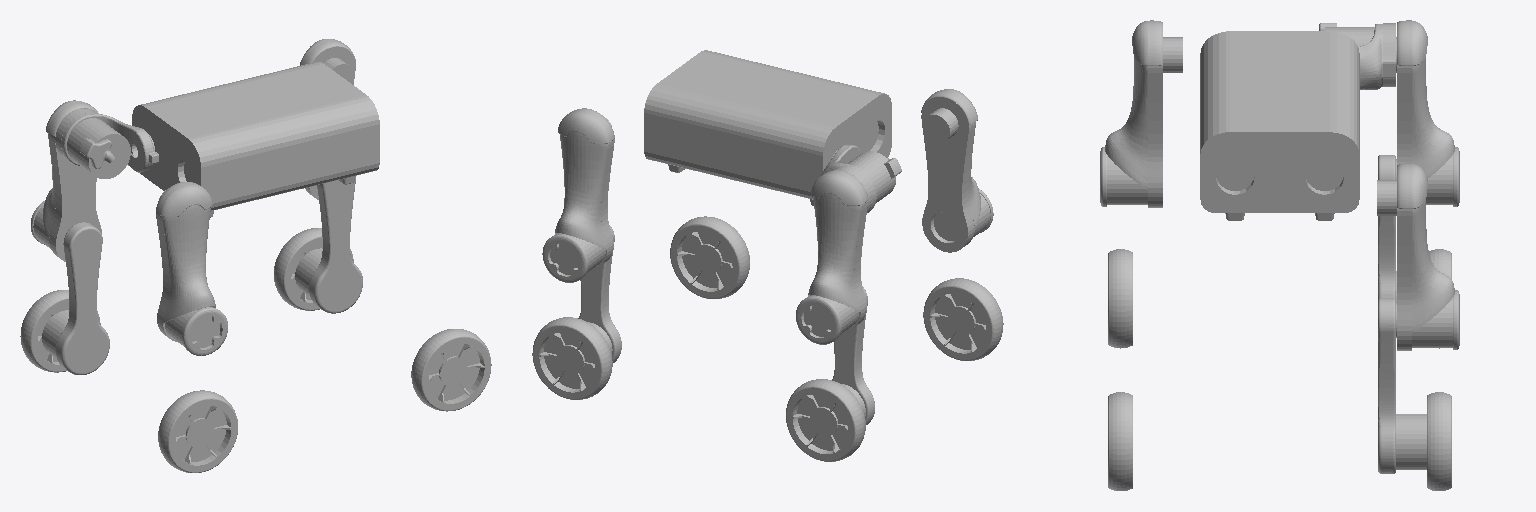
The robot description file, URDF, robot "Yun1W":
<?xml version="1.0" encoding="utf-8"?>
<!-- This URDF was automatically created by SolidWorks to URDF Exporter! Originally created by [author] ([email redacted]) 
     Commit Version: 1.6.0-1-g15f4949  Build Version: 1.6.7594.29634
     For more information, please see http://wiki.ros.org/sw_urdf_exporter -->
<robot
  name="Yun1W">
  <link
    name="base_link">
    <inertial>
      <origin
        xyz="0.00383944 0.00032322 0.00132292"
        rpy="0 0 0" />
      <mass
        value="2.87129405" />
      <inertia
        ixx="0.00758086"
        ixy="-5.884e-05"
        ixz="-4.28e-06"
        iyy="0.01707296"
        iyz="-1.288e-05"
        izz="0.02157473" />
    </inertial>
    <visual>
      <origin
        xyz="0 0 0"
        rpy="0 0 0" />
      <geometry>
        <mesh
          filename="../meshes/base_link.STL" />
      </geometry>
      <material
        name="">
        <color
          rgba="0.752941176470588 0.752941176470588 0.752941176470588 1" />
      </material>
    </visual>
    <collision>
      <origin
        xyz="0 0 0"
        rpy="0 0 0" />
      <geometry>
        <mesh
          filename="../meshes/base_link.STL" />
      </geometry>
    </collision>
  </link>
  <link
    name="fl_hip_Link">
    <inertial>
      <origin
        xyz="0.05181106 0.02890945 -0.00025930"
        rpy="0 0 0" />
      <mass
        value="0.40036239" />
      <inertia
        ixx="0.00027388"
        ixy="3.434e-05"
        ixz="-1.58e-06"
        iyy="0.00028655"
        iyz="-1.64e-06"
        izz="0.00034645" />
    </inertial>
    <visual>
      <origin
        xyz="0 0 0"
        rpy="0 0 0" />
      <geometry>
        <mesh
          filename="../meshes/fl_hip_Link.STL" />
      </geometry>
      <material
        name="">
        <color
          rgba="0.752941176470588 0.752941176470588 0.752941176470588 1" />
      </material>
    </visual>
    <collision>
      <origin
        xyz="0 0 0"
        rpy="0 0 0" />
      <geometry>
        <mesh
          filename="../meshes/fl_hip_Link.STL" />
      </geometry>
    </collision>
  </link>
  <joint
    name="fl_hip_Joint"
    type="revolute">
    <origin
      xyz="0.1125 0.045 0"
      rpy="0 0 0" />
    <parent
      link="base_link" />
    <child
      link="fl_hip_Link" />
    <axis
      xyz="1 0 0" />
    <limit
      lower="-0.6981"
      upper="0.6981"
      effort="14"
      velocity="17" />
  </joint>
  <link
    name="fl_thigh_Link">
    <inertial>
      <origin
        xyz="-0.00025469 0.04391819 -0.10445464"
        rpy="0 0 0" />
      <mass
        value="0.47156059" />
      <inertia
        ixx="0.00157037"
        ixy="-7.2e-07"
        ixz="3.68e-06"
        iyy="0.00153438"
        iyz="-0.00020301"
        izz="0.00030139" />
    </inertial>
    <visual>
      <origin
        xyz="0 0 0"
        rpy="0 0 0" />
      <geometry>
        <mesh
          filename="../meshes/fl_thigh_Link.STL" />
      </geometry>
      <material
        name="">
        <color
          rgba="0.75294 0.75294 0.75294 1" />
      </material>
    </visual>
    <collision>
      <origin
        xyz="0 0 0"
        rpy="0 0 0" />
      <geometry>
        <mesh
          filename="../meshes/fl_thigh_Link.STL" />
      </geometry>
    </collision>
  </link>
  <joint
    name="fl_thigh_Joint"
    type="revolute">
    <origin
      xyz="0.0575 0.0525 0"
      rpy="0 0 0" />
    <parent
      link="fl_hip_Link" />
    <child
      link="fl_thigh_Link" />
    <axis
      xyz="0 1 0" />
    <limit
      lower="-2.7925"
      upper="2.7925"
      effort="14"
      velocity="17" />
  </joint>
  <link
    name="fl_calf_Link">
    <inertial>
      <origin
        xyz="-0.00030281 0.00277812 -0.12121819"
        rpy="0 0 0" />
      <mass
        value="0.39626090" />
      <inertia
        ixx="0.00075527"
        ixy="-5.7e-07"
        ixz="1.7e-06"
        iyy="0.00071673"
        iyz="-9.536e-05"
        izz="0.00024429" />
    </inertial>
    <visual>
      <origin
        xyz="0 0 0"
        rpy="0 0 0" />
      <geometry>
        <mesh
          filename="../meshes/fl_calf_Link.STL" />
      </geometry>
      <material
        name="">
        <color
          rgba="0.752941176470588 0.752941176470588 0.752941176470588 1" />
      </material>
    </visual>
    <collision>
      <origin
        xyz="0 0 0"
        rpy="0 0 0" />
      <geometry>
        <mesh
          filename="../meshes/fl_calf_Link.STL" />
      </geometry>
    </collision>
  </link>
  <joint
    name="fl_calf_Joint"
    type="revolute">
    <origin
      xyz="0 0.026 -0.135"
      rpy="0 0 0" />
    <parent
      link="fl_thigh_Link" />
    <child
      link="fl_calf_Link" />
    <axis
      xyz="0 1 0" />
    <limit
      lower="-2.5307"
      upper="2.5307"
      effort="14"
      velocity="17" />
  </joint>
  <link
    name="fl_wheel_Link">
    <inertial>
      <origin
        xyz="0 0.00511591 0"
        rpy="0 0 0" />
      <mass
        value="0.09346820" />
      <inertia
        ixx="7.631e-05"
        ixy="0"
        ixz="0"
        iyy="0.00014526"
        iyz="0"
        izz="7.631e-05" />
    </inertial>
    <visual>
      <origin
        xyz="0 0 0"
        rpy="0 0 0" />
      <geometry>
        <mesh
          filename="../meshes/fl_wheel_Link.STL" />
      </geometry>
      <material
        name="">
        <color
          rgba="0.752941176470588 0.752941176470588 0.752941176470588 1" />
      </material>
    </visual>
    <collision>
      <origin
        xyz="0 0 0"
        rpy="0 0 0" />
      <geometry>
        <mesh
          filename="../meshes/fl_wheel_Link.STL" />
      </geometry>
    </collision>
  </link>
  <joint
    name="fl_wheel_Joint"
    type="continuous">
    <origin
      xyz="0 0.0315 -0.135"
      rpy="0 0 0" />
    <parent
      link="fl_calf_Link" />
    <child
      link="fl_wheel_Link" />
    <axis
      xyz="0 1 0" />
    <limit
      effort="9999"
      velocity="9999" />
  </joint>
  <link
    name="fr_hip_Link">
    <inertial>
      <origin
        xyz="0.05151195 -0.02890203 0.00025989"
        rpy="0 0 0" />
      <mass
        value="0.40021841" />
      <inertia
        ixx="0.00027389"
        ixy="-3.437e-05"
        ixz="-3.4e-07"
        iyy="0.00028504"
        iyz="1.72e-06"
        izz="0.00034478" />
    </inertial>
    <visual>
      <origin
        xyz="0 0 0"
        rpy="0 0 0" />
      <geometry>
        <mesh
          filename="../meshes/fr_hip_Link.STL" />
      </geometry>
      <material
        name="">
        <color
          rgba="0.752941176470588 0.752941176470588 0.752941176470588 1" />
      </material>
    </visual>
    <collision>
      <origin
        xyz="0 0 0"
        rpy="0 0 0" />
      <geometry>
        <mesh
          filename="../meshes/fr_hip_Link.STL" />
      </geometry>
    </collision>
  </link>
  <joint
    name="fr_hip_Joint"
    type="revolute">
    <origin
      xyz="0.1125 -0.045 0"
      rpy="0 0 0" />
    <parent
      link="base_link" />
    <child
      link="fr_hip_Link" />
    <axis
      xyz="1 0 0" />
    <limit
      lower="-0.6981"
      upper="0.6981"
      effort="14"
      velocity="17" />
  </joint>
  <link
    name="fr_thigh_Link">
    <inertial>
      <origin
        xyz="0.00025469 -0.04391819 -0.10445464"
        rpy="0 0 0" />
      <mass
        value="0.47156059" />
      <inertia
        ixx="0.00157037"
        ixy="-7.2e-07"
        ixz="-3.68e-06"
        iyy="0.00153438"
        iyz="0.00020301"
        izz="0.00030139" />
    </inertial>
    <visual>
      <origin
        xyz="0 0 0"
        rpy="0 0 0" />
      <geometry>
        <mesh
          filename="../meshes/fr_thigh_Link.STL" />
      </geometry>
      <material
        name="">
        <color
          rgba="0.75294 0.75294 0.75294 1" />
      </material>
    </visual>
    <collision>
      <origin
        xyz="0 0 0"
        rpy="0 0 0" />
      <geometry>
        <mesh
          filename="../meshes/fr_thigh_Link.STL" />
      </geometry>
    </collision>
  </link>
  <joint
    name="fr_thigh_Joint"
    type="revolute">
    <origin
      xyz="0.0575 -0.0525 0"
      rpy="0 0 0" />
    <parent
      link="fr_hip_Link" />
    <child
      link="fr_thigh_Link" />
    <axis
      xyz="0 1 0" />
    <limit
      lower="-2.7925"
      upper="2.7925"
      effort="14"
      velocity="17" />
  </joint>
  <link
    name="fr_calf_Link">
    <inertial>
      <origin
        xyz="0.00030281 -0.00277812 -0.12121819"
        rpy="0 0 0" />
      <mass
        value="0.3962609" />
      <inertia
        ixx="0.00075527"
        ixy="-5.7e-07"
        ixz="-1.7e-06"
        iyy="0.00071673"
        iyz="9.536e-05"
        izz="0.00024429" />
    </inertial>
    <visual>
      <origin
        xyz="0 0 0"
        rpy="0 0 0" />
      <geometry>
        <mesh
          filename="../meshes/fr_calf_Link.STL" />
      </geometry>
      <material
        name="">
        <color
          rgba="0.752941176470588 0.752941176470588 0.752941176470588 1" />
      </material>
    </visual>
    <collision>
      <origin
        xyz="0 0 0"
        rpy="0 0 0" />
      <geometry>
        <mesh
          filename="../meshes/fr_calf_Link.STL" />
      </geometry>
    </collision>
  </link>
  <joint
    name="fr_calf_Joint"
    type="revolute">
    <origin
      xyz="0 -0.026 -0.135"
      rpy="0 0 0" />
    <parent
      link="fr_thigh_Link" />
    <child
      link="fr_calf_Link" />
    <axis
      xyz="0 1 0" />
    <limit
      lower="-2.5307"
      upper="2.5307"
      effort="14"
      velocity="17" />
  </joint>
  <link
    name="fr_wheel_Link">
    <inertial>
      <origin
        xyz="0 -0.00511591 0"
        rpy="0 0 0" />
      <mass
        value="0.0934682" />
      <inertia
        ixx="7.631e-05"
        ixy="0"
        ixz="0"
        iyy="0.00014526"
        iyz="0"
        izz="7.631e-05" />
    </inertial>
    <visual>
      <origin
        xyz="0 0 0"
        rpy="0 0 0" />
      <geometry>
        <mesh
          filename="../meshes/fr_wheel_Link.STL" />
      </geometry>
      <material
        name="">
        <color
          rgba="0.752941176470588 0.752941176470588 0.752941176470588 1" />
      </material>
    </visual>
    <collision>
      <origin
        xyz="0 0 0"
        rpy="0 0 0" />
      <geometry>
        <mesh
          filename="../meshes/fr_wheel_Link.STL" />
      </geometry>
    </collision>
  </link>
  <joint
    name="fr_wheel_Joint"
    type="continuous">
    <origin
      xyz="0 -0.0315 -0.135"
      rpy="0 0 0" />
    <parent
      link="fr_calf_Link" />
    <child
      link="fr_wheel_Link" />
    <axis
      xyz="0 1 0" />
    <limit
      effort="9999"
      velocity="9999" />
  </joint>
  <link
    name="rl_hip_Link">
    <inertial>
      <origin
        xyz="-0.05151195 0.02890203 0.00025989"
        rpy="0 0 0" />
      <mass
        value="0.40021841" />
      <inertia
        ixx="0.00027389"
        ixy="-3.437e-05"
        ixz="3.4e-07"
        iyy="0.00028504"
        iyz="-1.72e-06"
        izz="0.00034478" />
    </inertial>
    <visual>
      <origin
        xyz="0 0 0"
        rpy="0 0 0" />
      <geometry>
        <mesh
          filename="../meshes/rl_hip_Link.STL" />
      </geometry>
      <material
        name="">
        <color
          rgba="0.752941176470588 0.752941176470588 0.752941176470588 1" />
      </material>
    </visual>
    <collision>
      <origin
        xyz="0 0 0"
        rpy="0 0 0" />
      <geometry>
        <mesh
          filename="../meshes/rl_hip_Link.STL" />
      </geometry>
    </collision>
  </link>
  <joint
    name="rl_hip_Joint"
    type="revolute">
    <origin
      xyz="-0.1125 0.045 0"
      rpy="0 0 0" />
    <parent
      link="base_link" />
    <child
      link="rl_hip_Link" />
    <axis
      xyz="1 0 0" />
    <limit
      lower="-0.6981"
      upper="0.6981"
      effort="14"
      velocity="17" />
  </joint>
  <link
    name="rl_thigh_Link">
    <inertial>
      <origin
        xyz="-0.00025469 0.04391819 -0.10445464"
        rpy="0 0 0" />
      <mass
        value="0.47156059" />
      <inertia
        ixx="0.00157037"
        ixy="-7.2e-07"
        ixz="3.68e-06"
        iyy="0.00153438"
        iyz="-0.00020301"
        izz="0.00030139" />
    </inertial>
    <visual>
      <origin
        xyz="0 0 0"
        rpy="0 0 0" />
      <geometry>
        <mesh
          filename="../meshes/rl_thigh_Link.STL" />
      </geometry>
      <material
        name="">
        <color
          rgba="0.752941176470588 0.752941176470588 0.752941176470588 1" />
      </material>
    </visual>
    <collision>
      <origin
        xyz="0 0 0"
        rpy="0 0 0" />
      <geometry>
        <mesh
          filename="../meshes/rl_thigh_Link.STL" />
      </geometry>
    </collision>
  </link>
  <joint
    name="rl_thigh_Joint"
    type="revolute">
    <origin
      xyz="-0.0575 0.0525 0"
      rpy="0 0 0" />
    <parent
      link="rl_hip_Link" />
    <child
      link="rl_thigh_Link" />
    <axis
      xyz="0 1 0" />
    <limit
      lower="-2.7925"
      upper="2.7925"
      effort="14"
      velocity="17" />
  </joint>
  <link
    name="rl_calf_Link">
    <inertial>
      <origin
        xyz="-0.00030281 0.00277812 -0.12121819"
        rpy="0 0 0" />
      <mass
        value="0.3962609" />
      <inertia
        ixx="0.00075527"
        ixy="-5.7e-07"
        ixz="1.7e-06"
        iyy="0.00071673"
        iyz="-9.536e-05"
        izz="0.00024429" />
    </inertial>
    <visual>
      <origin
        xyz="0 0 0"
        rpy="0 0 0" />
      <geometry>
        <mesh
          filename="../meshes/rl_calf_Link.STL" />
      </geometry>
      <material
        name="">
        <color
          rgba="0.752941176470588 0.752941176470588 0.752941176470588 1" />
      </material>
    </visual>
    <collision>
      <origin
        xyz="0 0 0"
        rpy="0 0 0" />
      <geometry>
        <mesh
          filename="../meshes/rl_calf_Link.STL" />
      </geometry>
    </collision>
  </link>
  <joint
    name="rl_calf_Joint"
    type="revolute">
    <origin
      xyz="0 0.026 -0.135"
      rpy="0 0 0" />
    <parent
      link="rl_thigh_Link" />
    <child
      link="rl_calf_Link" />
    <axis
      xyz="0 1 0" />
    <limit
      lower="-2.5307"
      upper="2.5307"
      effort="14"
      velocity="17" />
  </joint>
  <link
    name="rl_wheel_Link">
    <inertial>
      <origin
        xyz="0 0.00511591 0"
        rpy="0 0 0" />
      <mass
        value="0.0934682" />
      <inertia
        ixx="7.631e-05"
        ixy="0"
        ixz="0"
        iyy="0.00014526"
        iyz="0"
        izz="7.631e-05" />
    </inertial>
    <visual>
      <origin
        xyz="0 0 0"
        rpy="0 0 0" />
      <geometry>
        <mesh
          filename="../meshes/rl_wheel_Link.STL" />
      </geometry>
      <material
        name="">
        <color
          rgba="0.752941176470588 0.752941176470588 0.752941176470588 1" />
      </material>
    </visual>
    <collision>
      <origin
        xyz="0 0 0"
        rpy="0 0 0" />
      <geometry>
        <mesh
          filename="../meshes/rl_wheel_Link.STL" />
      </geometry>
    </collision>
  </link>
  <joint
    name="rl_wheel_Joint"
    type="continuous">
    <origin
      xyz="0 0.0315 -0.135"
      rpy="0 0 0" />
    <parent
      link="rl_calf_Link" />
    <child
      link="rl_wheel_Link" />
    <axis
      xyz="0 1 0" />
    <limit
      effort="9999"
      velocity="9999" />
  </joint>
  <link
    name="rr_hip_Link">
    <inertial>
      <origin
        xyz="-0.05181106 -0.02890945 -0.0002593"
        rpy="0 0 0" />
      <mass
        value="0.40036239" />
      <inertia
        ixx="0.00027388"
        ixy="3.434e-05"
        ixz="1.59e-06"
        iyy="0.00028655"
        iyz="1.64e-06"
        izz="0.00034645" />
    </inertial>
    <visual>
      <origin
        xyz="0 0 0"
        rpy="0 0 0" />
      <geometry>
        <mesh
          filename="../meshes/rr_hip_Link.STL" />
      </geometry>
      <material
        name="">
        <color
          rgba="1 1 1 1" />
      </material>
    </visual>
    <collision>
      <origin
        xyz="0 0 0"
        rpy="0 0 0" />
      <geometry>
        <mesh
          filename="../meshes/rr_hip_Link.STL" />
      </geometry>
    </collision>
  </link>
  <joint
    name="rr_hip_Joint"
    type="revolute">
    <origin
      xyz="-0.1125 -0.045 0"
      rpy="0 0 0" />
    <parent
      link="base_link" />
    <child
      link="rr_hip_Link" />
    <axis
      xyz="1 0 0" />
    <limit
      lower="-0.6981"
      upper="0.6981"
      effort="14"
      velocity="17" />
  </joint>
  <link
    name="rr_thigh_Link">
    <inertial>
      <origin
        xyz="0.00025469 -0.04391819 -0.10445464"
        rpy="0 0 0" />
      <mass
        value="0.47156059" />
      <inertia
        ixx="0.00157037"
        ixy="-7.2e-07"
        ixz="-3.68e-06"
        iyy="0.00153438"
        iyz="0.00020301"
        izz="0.00030139" />
    </inertial>
    <visual>
      <origin
        xyz="0 0 0"
        rpy="0 0 0" />
      <geometry>
        <mesh
          filename="../meshes/rr_thigh_Link.STL" />
      </geometry>
      <material
        name="">
        <color
          rgba="0.752941176470588 0.752941176470588 0.752941176470588 1" />
      </material>
    </visual>
    <collision>
      <origin
        xyz="0 0 0"
        rpy="0 0 0" />
      <geometry>
        <mesh
          filename="../meshes/rr_thigh_Link.STL" />
      </geometry>
    </collision>
  </link>
  <joint
    name="rr_thigh_Joint"
    type="revolute">
    <origin
      xyz="-0.0575 -0.0525 0"
      rpy="0 0 0" />
    <parent
      link="rr_hip_Link" />
    <child
      link="rr_thigh_Link" />
    <axis
      xyz="0 1 0" />
    <limit
      lower="-2.7925"
      upper="2.7925"
      effort="14"
      velocity="17" />
  </joint>
  <link
    name="rr_calf_Link">
    <inertial>
      <origin
        xyz="0.00030281 -0.00277812 -0.12121819"
        rpy="0 0 0" />
      <mass
        value="0.3962609" />
      <inertia
        ixx="0.00075527"
        ixy="-5.7e-07"
        ixz="-1.7e-06"
        iyy="0.00071673"
        iyz="9.536e-05"
        izz="0.00024429" />
    </inertial>
    <visual>
      <origin
        xyz="0 0 0"
        rpy="0 0 0" />
      <geometry>
        <mesh
          filename="../meshes/rr_calf_Link.STL" />
      </geometry>
      <material
        name="">
        <color
          rgba="0.752941176470588 0.752941176470588 0.752941176470588 1" />
      </material>
    </visual>
    <collision>
      <origin
        xyz="0 0 0"
        rpy="0 0 0" />
      <geometry>
        <mesh
          filename="../meshes/rr_calf_Link.STL" />
      </geometry>
    </collision>
  </link>
  <joint
    name="rr_calf_Joint"
    type="revolute">
    <origin
      xyz="0 -0.026 -0.135"
      rpy="0 0 0" />
    <parent
      link="rr_thigh_Link" />
    <child
      link="rr_calf_Link" />
    <axis
      xyz="0 1 0" />
    <limit
      lower="-2.5307"
      upper="2.5307"
      effort="14"
      velocity="17" />
  </joint>
  <link
    name="rr_wheel_Link">
    <inertial>
      <origin
        xyz="0 -0.00511591 0"
        rpy="0 0 0" />
      <mass
        value="0.0934682" />
      <inertia
        ixx="7.631e-05"
        ixy="0"
        ixz="0"
        iyy="0.00014526"
        iyz="0"
        izz="7.631e-05" />
    </inertial>
    <visual>
      <origin
        xyz="0 0 0"
        rpy="0 0 0" />
      <geometry>
        <mesh
          filename="../meshes/rr_wheel_Link.STL" />
      </geometry>
      <material
        name="">
        <color
          rgba="0.752941176470588 0.752941176470588 0.752941176470588 1" />
      </material>
    </visual>
    <collision>
      <origin
        xyz="0 0 0"
        rpy="0 0 0" />
      <geometry>
        <mesh
          filename="../meshes/rr_wheel_Link.STL" />
      </geometry>
    </collision>
  </link>
  <joint
    name="rr_wheel_Joint"
    type="continuous">
    <origin
      xyz="0 -0.0315 -0.135"
      rpy="0 0 0" />
    <parent
      link="rr_calf_Link" />
    <child
      link="rr_wheel_Link" />
    <axis
      xyz="0 1 0" />
    <limit
      effort="9999"
      velocity="9999" />
  </joint>
</robot>

--- Render facts (derived) ---
Views: 3 orthographic renders of the robot side by side, from view 1: azimuth 30°, elevation 25°; view 2: azimuth 150°, elevation 25°; view 3: azimuth 270°, elevation 25°.
Robot: Yun1W — 17 links, 16 joints (12 revolute, 4 continuous); root link base_link; default pose: every joint at zero.
Links seen in each view (by area): view 1: base_link, rr_thigh_Link, rl_calf_Link, fl_calf_Link, rr_wheel_Link, fr_wheel_Link, rl_hip_Link, rl_thigh_Link, fl_wheel_Link, rl_wheel_Link, fl_thigh_Link; view 2: base_link, fl_thigh_Link, rl_thigh_Link, rr_thigh_Link, rl_wheel_Link, fl_wheel_Link, rr_wheel_Link, fr_wheel_Link, rl_hip_Link, fl_calf_Link, rl_calf_Link; view 3: base_link, fl_thigh_Link, rr_thigh_Link, rl_thigh_Link, fl_calf_Link, rl_hip_Link, rr_wheel_Link, fr_wheel_Link, fl_wheel_Link, rl_calf_Link.
Link boxes in pixels (left/top/right/bottom): base_link: left=132, top=62, right=379, bottom=217; rr_thigh_Link: left=156, top=182, right=227, bottom=355; rl_calf_Link: left=42, top=222, right=109, bottom=374; fl_calf_Link: left=295, top=177, right=362, bottom=313; rr_wheel_Link: left=158, top=390, right=237, bottom=472; fr_wheel_Link: left=411, top=329, right=491, bottom=411; rl_hip_Link: left=55, top=109, right=158, bottom=178; rl_thigh_Link: left=31, top=100, right=101, bottom=261; fl_wheel_Link: left=274, top=228, right=353, bottom=310; rl_wheel_Link: left=20, top=290, right=100, bottom=372; fl_thigh_Link: left=300, top=39, right=355, bottom=199; base_link: left=644, top=50, right=891, bottom=205; fl_thigh_Link: left=542, top=108, right=614, bottom=282; rl_thigh_Link: left=796, top=170, right=867, bottom=344; rr_thigh_Link: left=921, top=89, right=993, bottom=252; rl_wheel_Link: left=786, top=379, right=865, bottom=461; fl_wheel_Link: left=532, top=317, right=612, bottom=399; rr_wheel_Link: left=923, top=278, right=1003, bottom=360; fr_wheel_Link: left=670, top=216, right=749, bottom=298; rl_hip_Link: left=821, top=145, right=901, bottom=212; fl_calf_Link: left=578, top=226, right=621, bottom=362; rl_calf_Link: left=832, top=287, right=874, bottom=424; base_link: left=1200, top=31, right=1359, bottom=220; fl_thigh_Link: left=1377, top=163, right=1459, bottom=350; rr_thigh_Link: left=1100, top=20, right=1182, bottom=207; rl_thigh_Link: left=1396, top=20, right=1459, bottom=206; fl_calf_Link: left=1378, top=298, right=1426, bottom=473; rl_hip_Link: left=1319, top=23, right=1395, bottom=89; rr_wheel_Link: left=1108, top=249, right=1132, bottom=348; fr_wheel_Link: left=1108, top=392, right=1132, bottom=490; fl_wheel_Link: left=1427, top=392, right=1451, bottom=490; rl_calf_Link: left=1378, top=155, right=1396, bottom=301.
Bounding box of the posed robot: 0.4398 × 0.361 × 0.37 m (x, y, z).
11 mesh visuals loaded from 17 distinct referenced files (11 binary STL); not drawn: 6 (reference not matched to a file when rendering).
